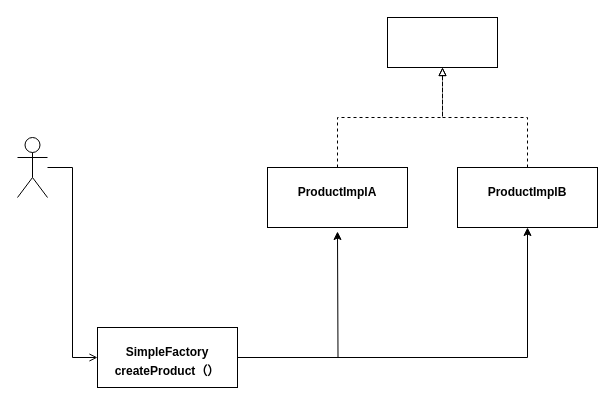
Image size: 615x405. Some labels were removed from this diagram. Each missing label, with the centre of its shape:
Actor: point (32, 167)
«interface» Product: point (442, 42)
